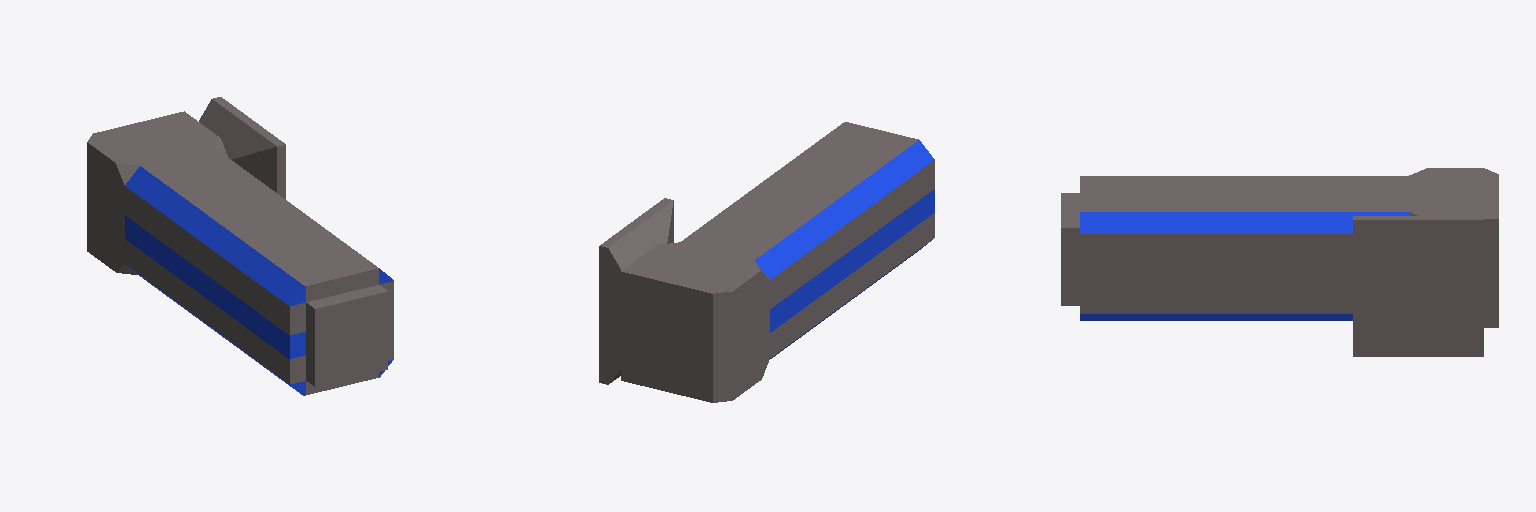
Rendered from BrazoDerechoRobot1.obj.
3 views of the same model, side by side, from view 1: azimuth 30°, elevation 25°; view 2: azimuth 150°, elevation 25°; view 3: azimuth 270°, elevation 25° (orthographic).
Visible parts, largest first — view 1: BrazoDerechoRobot1; view 2: BrazoDerechoRobot1; view 3: BrazoDerechoRobot1.
Boxes of the visible parts, x1,y1,x2,y2 form: BrazoDerechoRobot1: [87, 97, 393, 395]; BrazoDerechoRobot1: [599, 122, 934, 402]; BrazoDerechoRobot1: [1061, 168, 1498, 356].
Size of the model in its own units: 1.28 by 1.25 by 3.63.